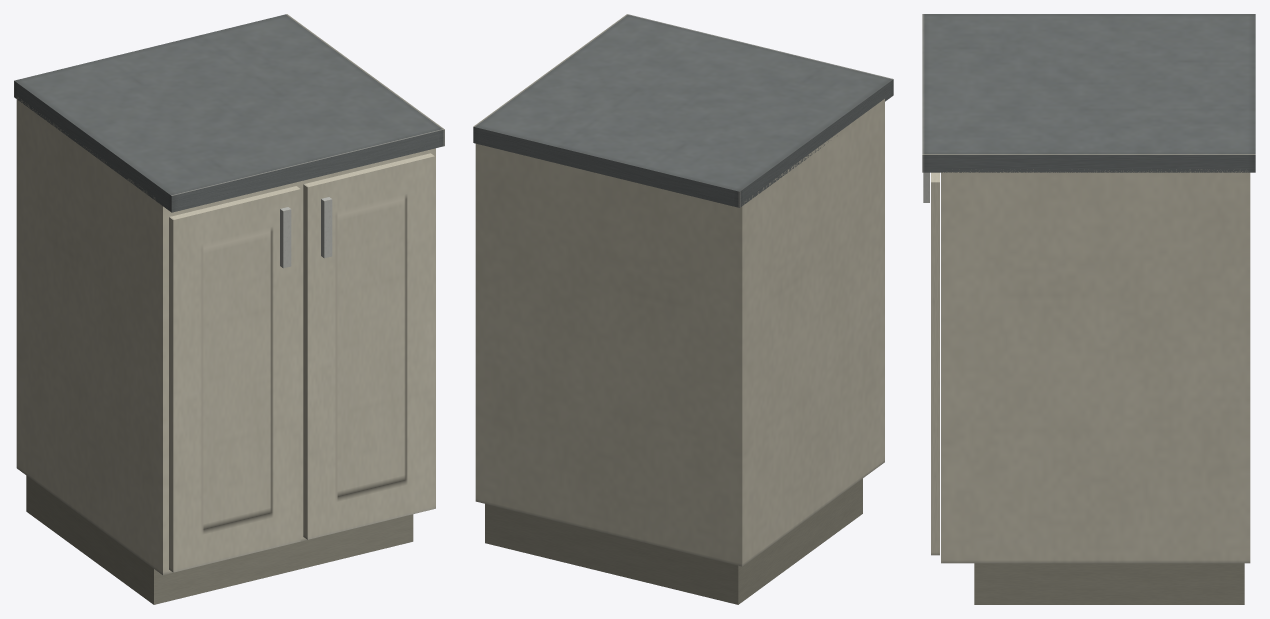
The model's file is cabinet_base.glb.
The picture shows the model from 3 angles, left to right: view 1: azimuth 30°, elevation 25°; view 2: azimuth 150°, elevation 25°; view 3: azimuth 270°, elevation 25°; orthographic projection. The views are drawn at different scales.
Visible parts, largest first — view 1: home_cabinet_base; view 2: home_cabinet_base; view 3: home_cabinet_base.
Boxes of the visible parts, x1,y1,x2,y2 form: home_cabinet_base: [14, 14, 444, 604]; home_cabinet_base: [473, 14, 893, 604]; home_cabinet_base: [922, 14, 1255, 604].
Bounding box in the file's own units: 0.6 × 0.9 × 0.6.
Materials: 1 (1 with a texture image).
